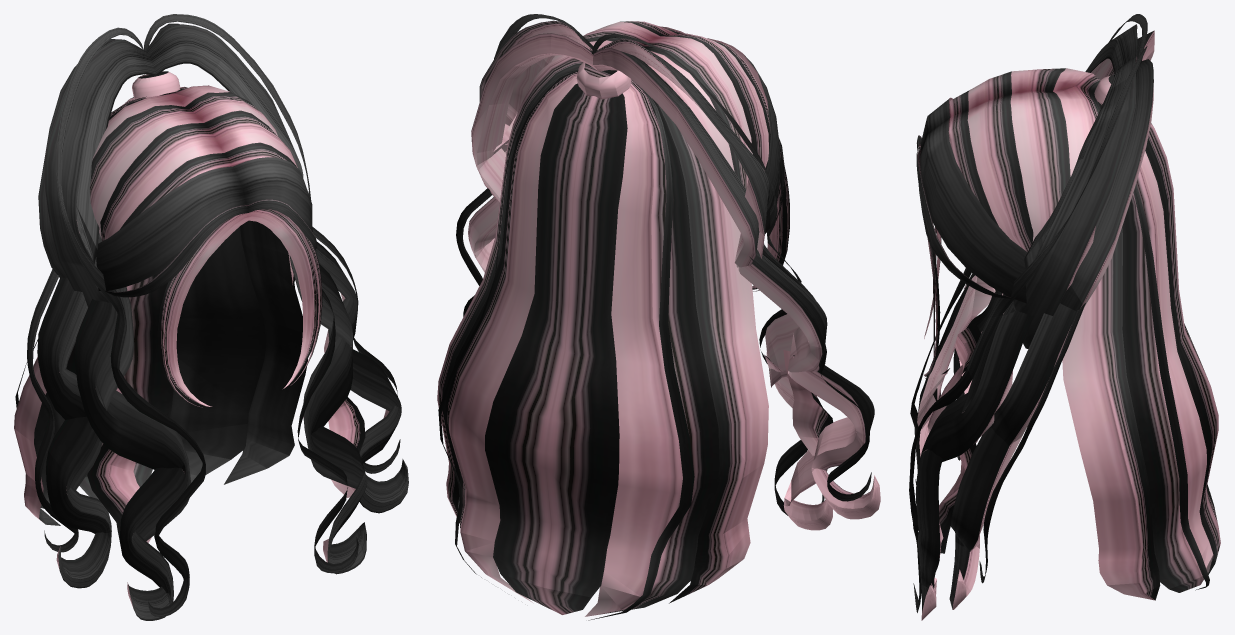
3 views of the same model, side by side, from view 1: azimuth 30°, elevation 25°; view 2: azimuth 150°, elevation 25°; view 3: azimuth 270°, elevation 25° (orthographic). The views are drawn at different scales.
Parts seen in each view (by area): view 1: Black And Pink Hair; view 2: Black And Pink Hair; view 3: Black And Pink Hair.
Part boxes in pixels (left/top/right/bottom): Black And Pink Hair: left=14, top=14, right=408, bottom=620; Black And Pink Hair: left=437, top=14, right=880, bottom=620; Black And Pink Hair: left=909, top=14, right=1220, bottom=620.
Size of the model in its own units: 3.03 by 4.1 by 2.13.
1 material, 1 textured.
